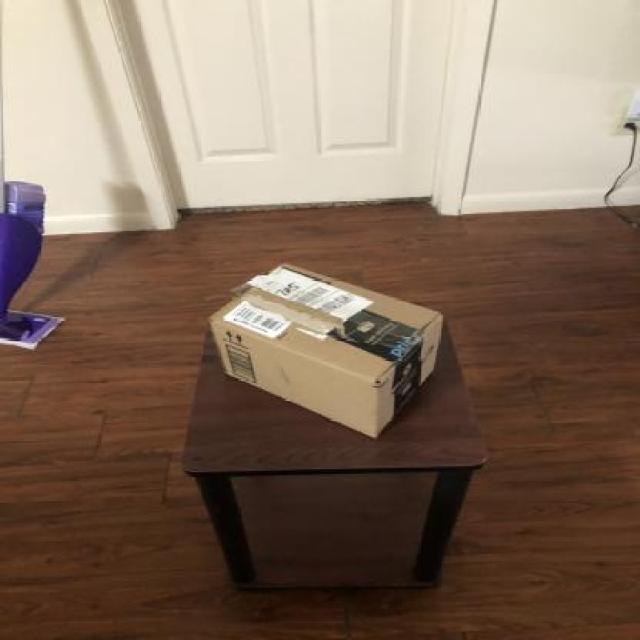cardboxes: (202, 259, 450, 446)
